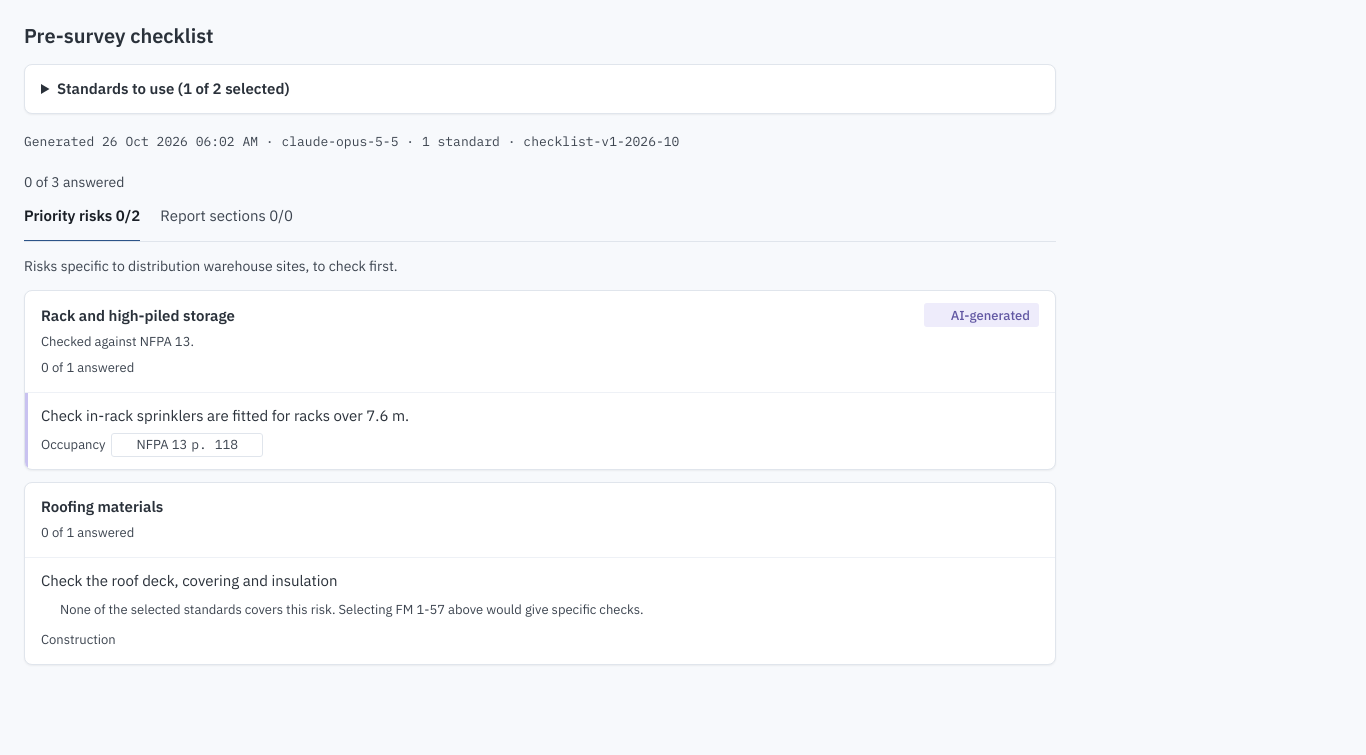
Test case: shows two citations of one page as one, opening to both quotes
Click the button "NFPA 13 p. 118": click(187, 445) [112, 433, 263, 457]
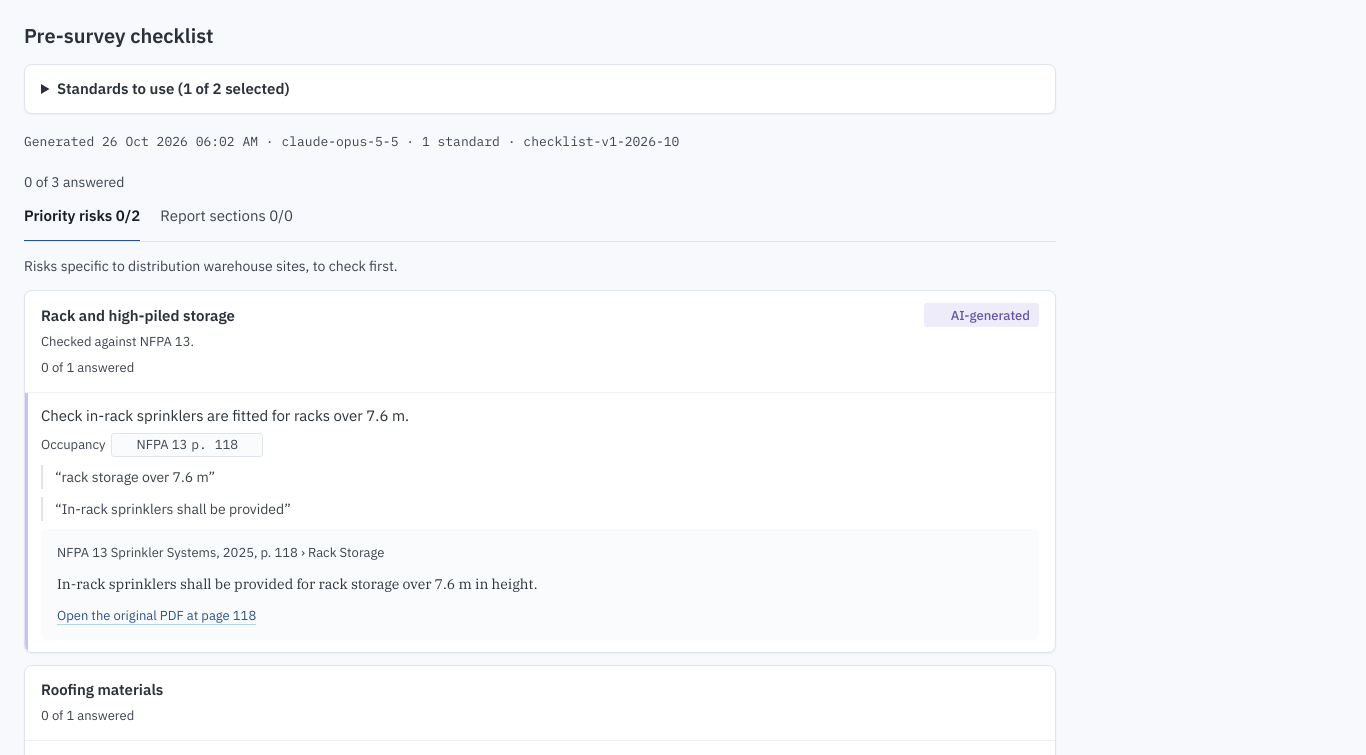
Expected: the text "“rack storage over 7.6 m”" is shown, [41, 465, 1039, 489]
Expected: the text "“In-rack sprinklers shall be provided”" is shown, [41, 497, 1039, 521]
Expected: the number of elements named "Passage text" is 1, [57, 575, 537, 593]
